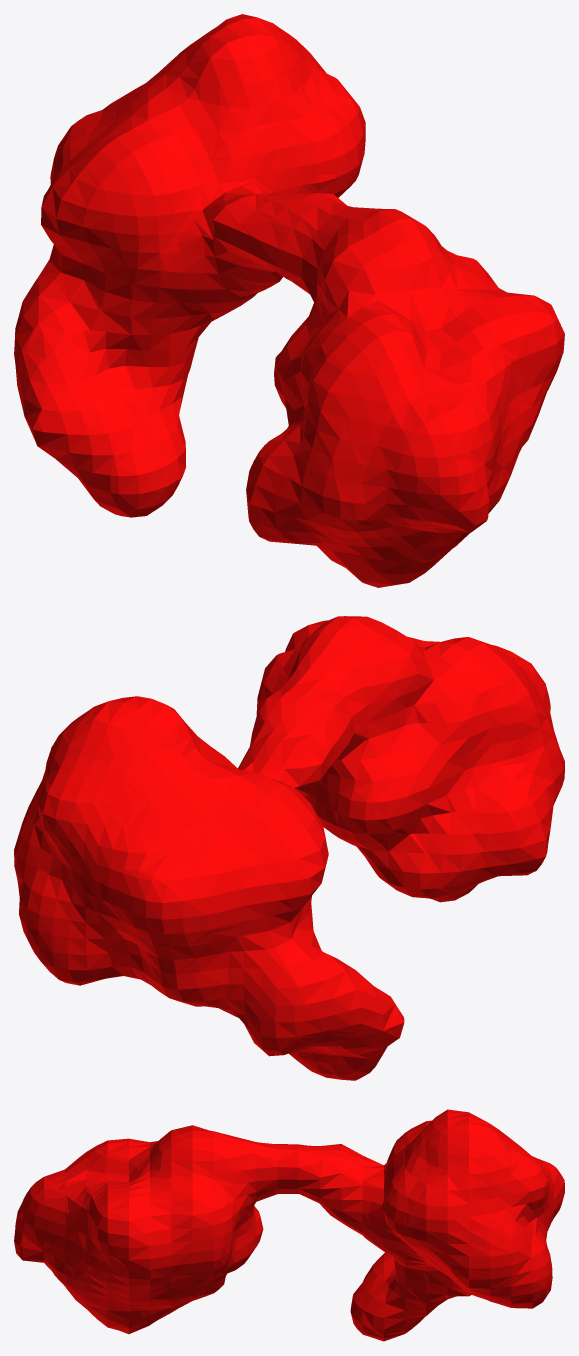
Rendered from creB_coarse.dae.
3 views of the same model, one above another, from view 1: azimuth 30°, elevation 25°; view 2: azimuth 150°, elevation 25°; view 3: azimuth 270°, elevation 25° (orthographic). The views are drawn at different scales.
Visible parts, largest first — view 1: creB; view 2: creB; view 3: creB.
Part boxes in pixels (x1,y1,x2,y2): creB: (14,14,564,587); creB: (14,616,564,1080); creB: (14,1109,564,1341).
Bounding box in the file's own units: 46.59 × 51.27 × 90.92.
